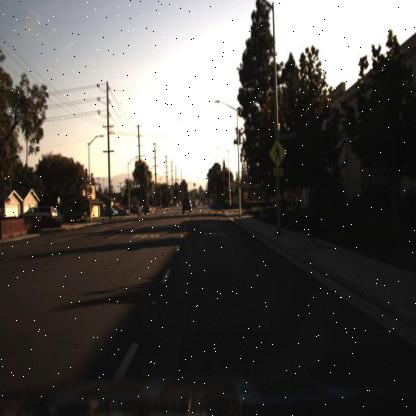car: (12, 196, 62, 226), (23, 204, 62, 224), (179, 195, 195, 219), (97, 204, 117, 218), (142, 202, 152, 218)
